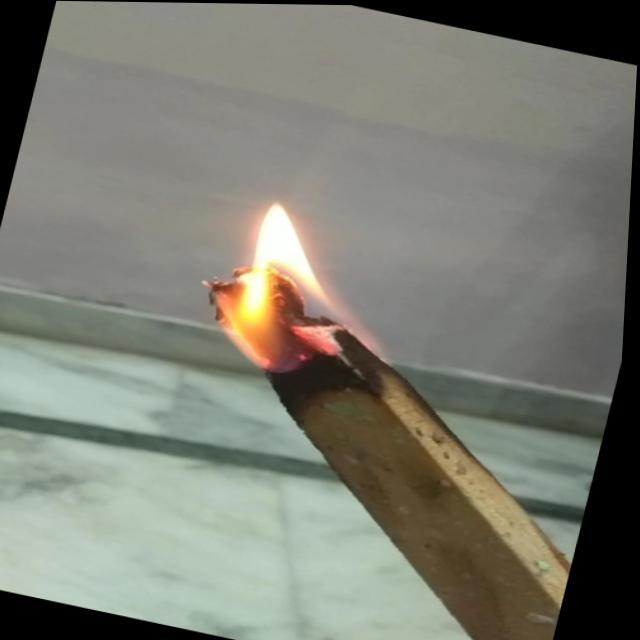fire: (170, 181, 427, 398)
